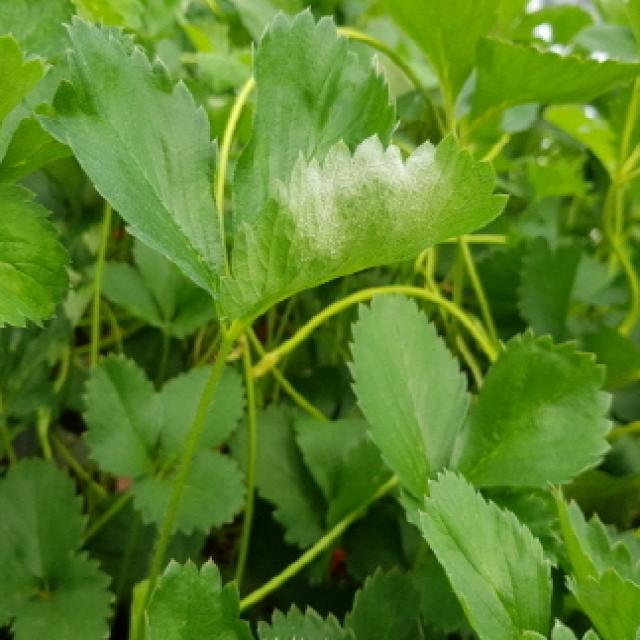Powdery Mildew Leaf: (213, 132, 514, 329)
